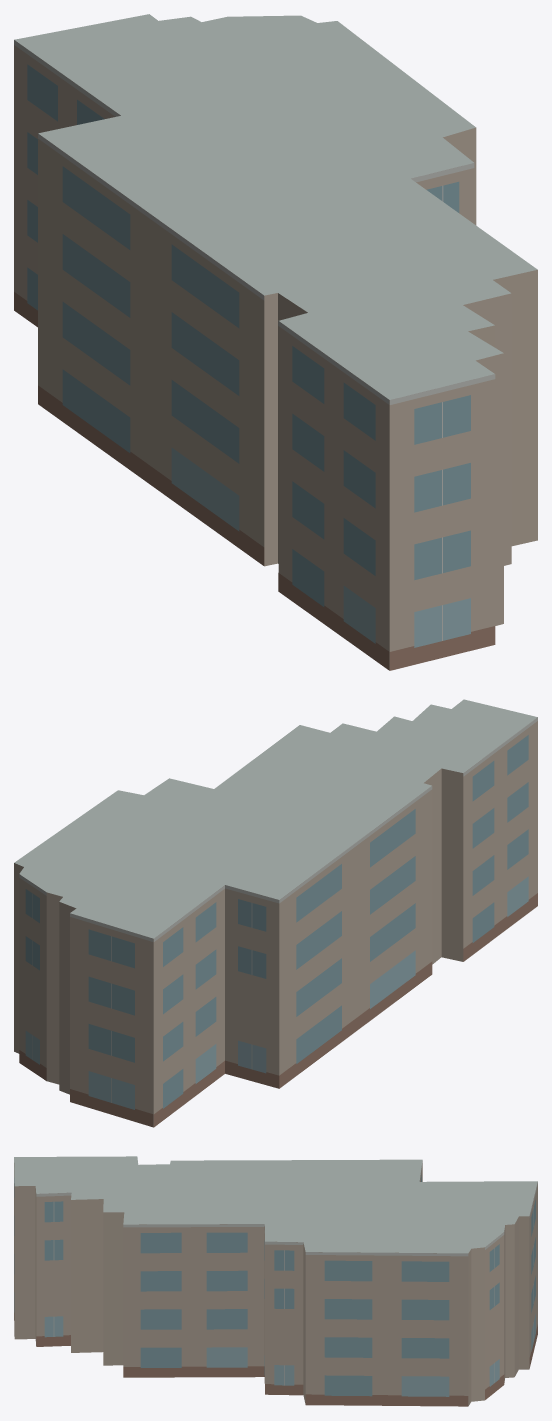
File: survey-upis-32465713.glb
The picture shows the model from 3 angles, top to bottom: view 1: azimuth 30°, elevation 25°; view 2: azimuth 150°, elevation 25°; view 3: azimuth 270°, elevation 25°; orthographic projection. The views are drawn at different scales.
Parts seen in each view (by area): view 1: survey-upis-32465713.tmp; view 2: survey-upis-32465713.tmp; view 3: survey-upis-32465713.tmp.
Part boxes in pixels (x1,y1,x2,y2): survey-upis-32465713.tmp: (14, 14, 537, 670); survey-upis-32465713.tmp: (14, 699, 537, 1127); survey-upis-32465713.tmp: (14, 1156, 537, 1406).
Size of the model in its own units: 17.54 by 12.9 by 40.01.
